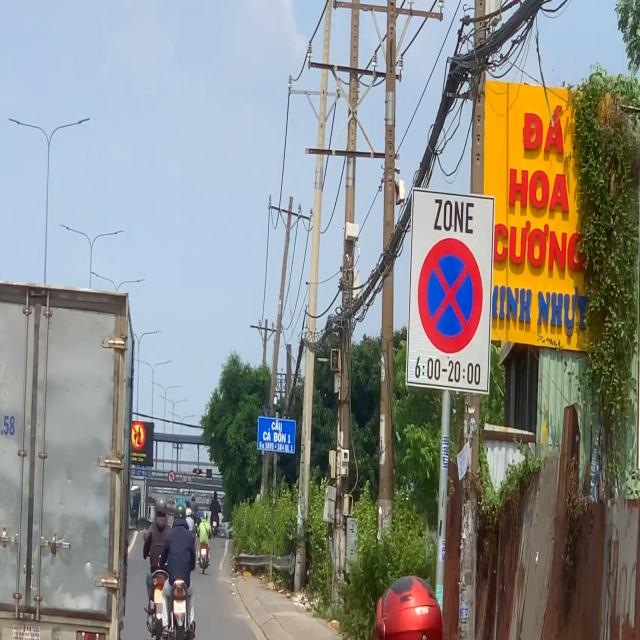Cam dung va do: (416, 235, 485, 357)
